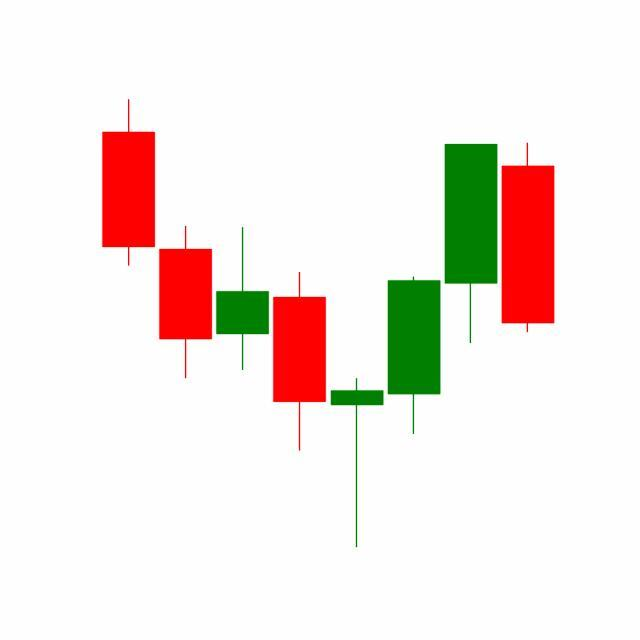Three Advancing White Soldiers: (328, 139, 500, 548)
